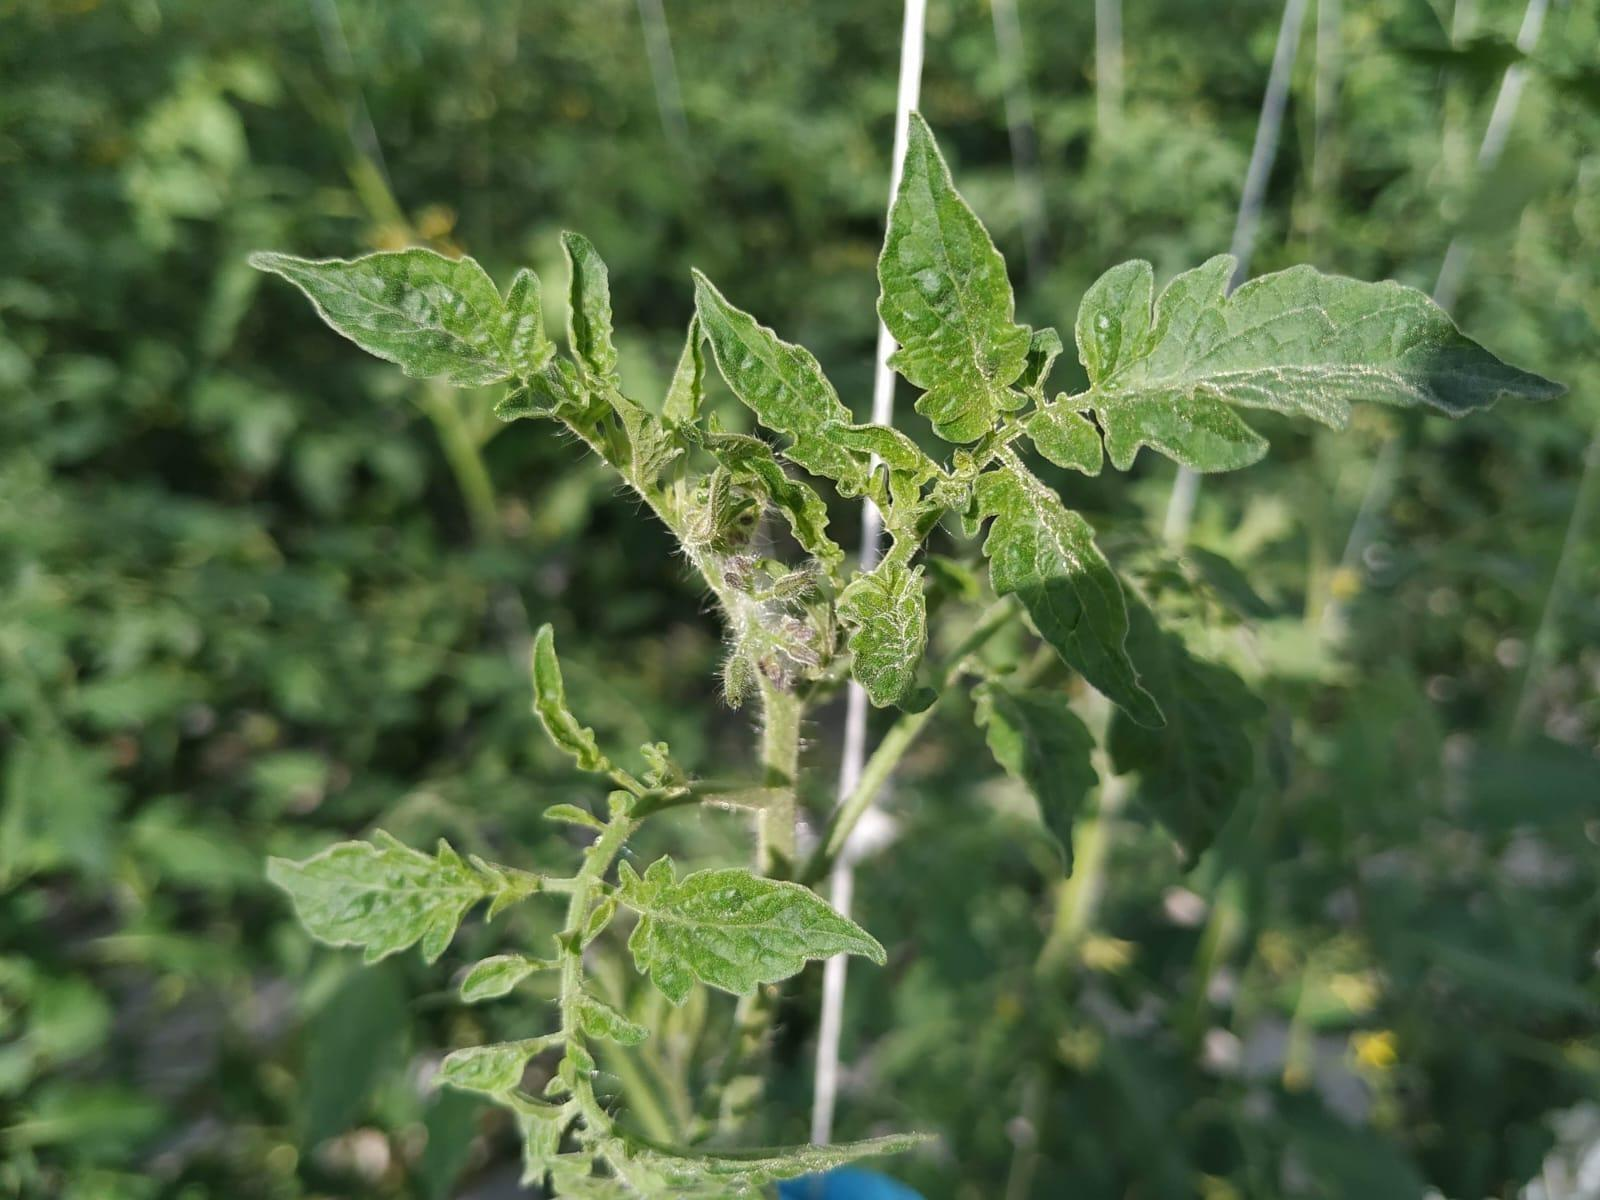Hoja rugoso: (1078, 256, 1562, 471), (573, 824, 879, 1002), (971, 450, 1163, 725), (878, 116, 1032, 444), (249, 247, 553, 387), (695, 272, 866, 497), (270, 834, 548, 959)
